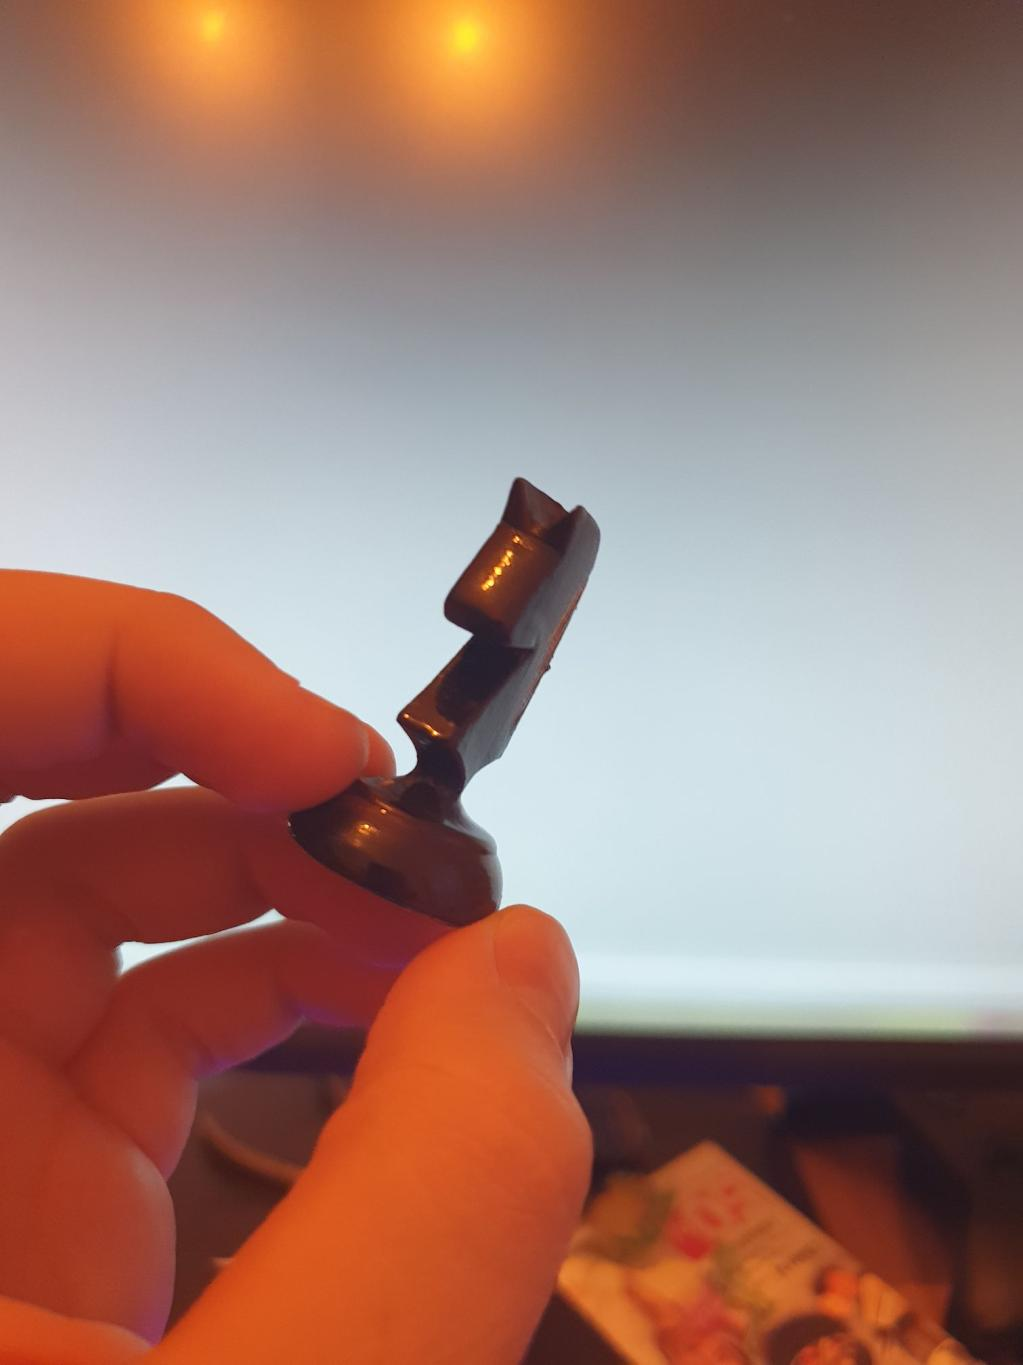bknight: (286, 473, 601, 926)
